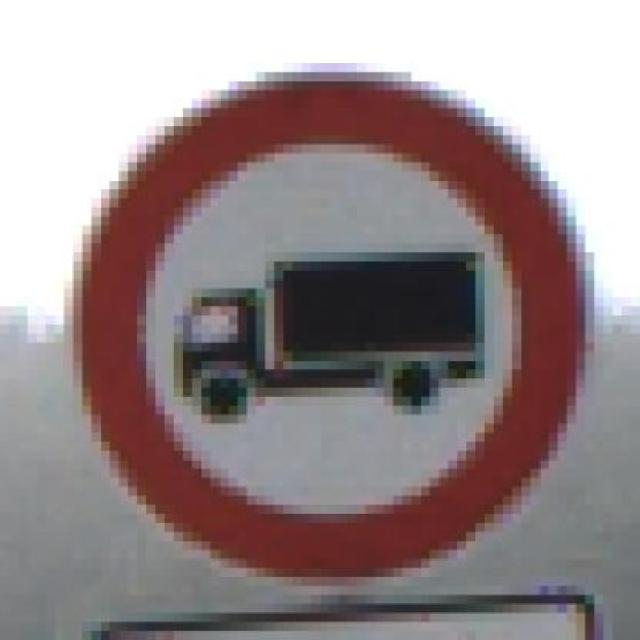Truck traffic is prohibited: (36, 72, 604, 596)
